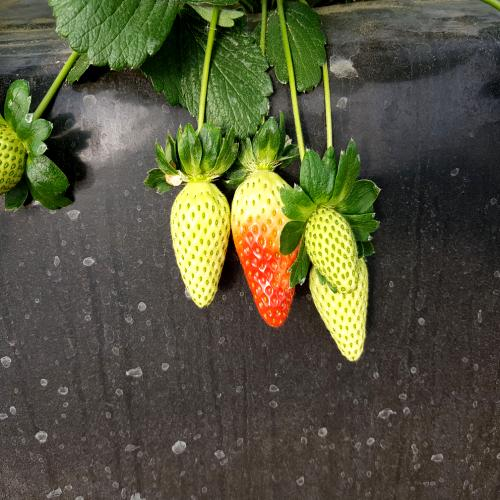partially-ripe: (232, 161, 306, 330)
unripe: (166, 168, 230, 312), (306, 262, 384, 365), (308, 188, 362, 295)
